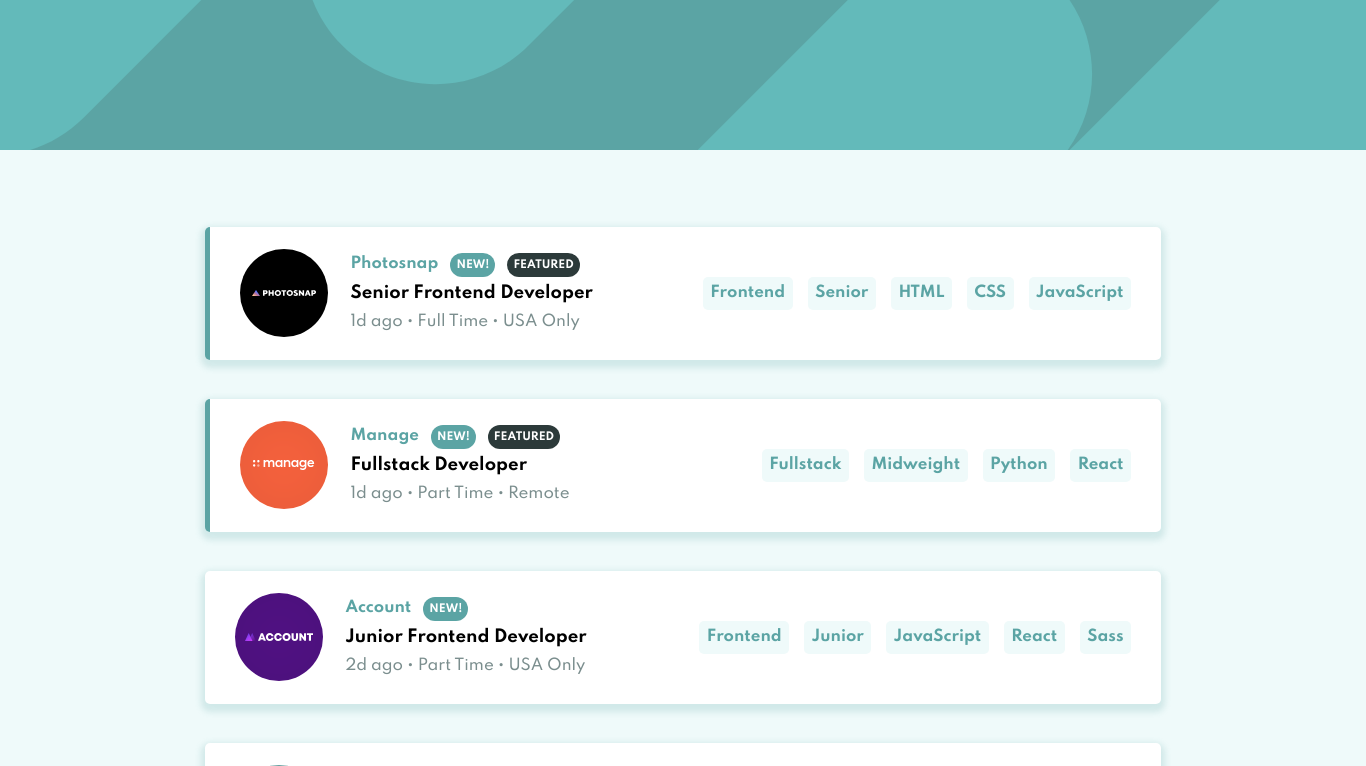
Test case: job listings › removes individual filters and restores all jobs after the last removal
Click the 2nd text "Frontend" at point(744, 637), box [699,621,789,654]
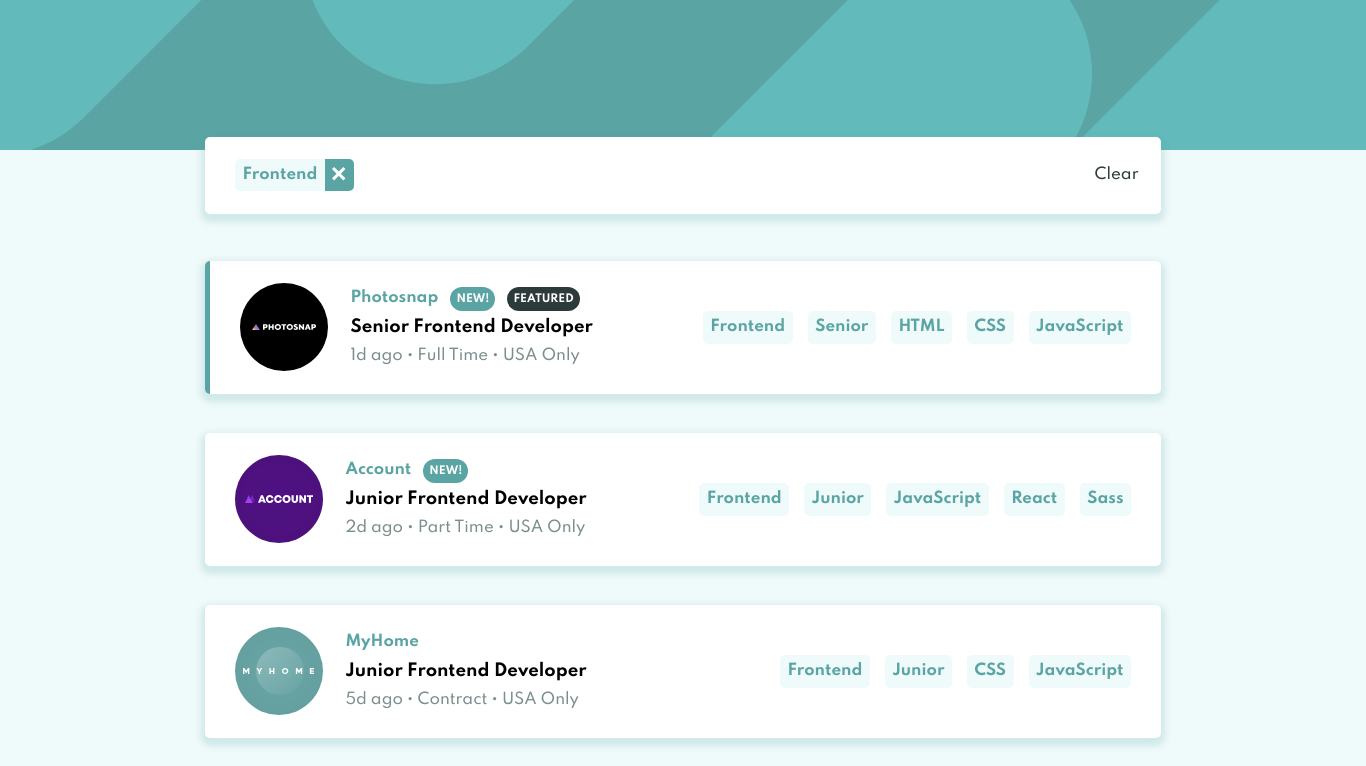
Click the 1st text "Junior" at point(838, 499), box [804,483,871,516]
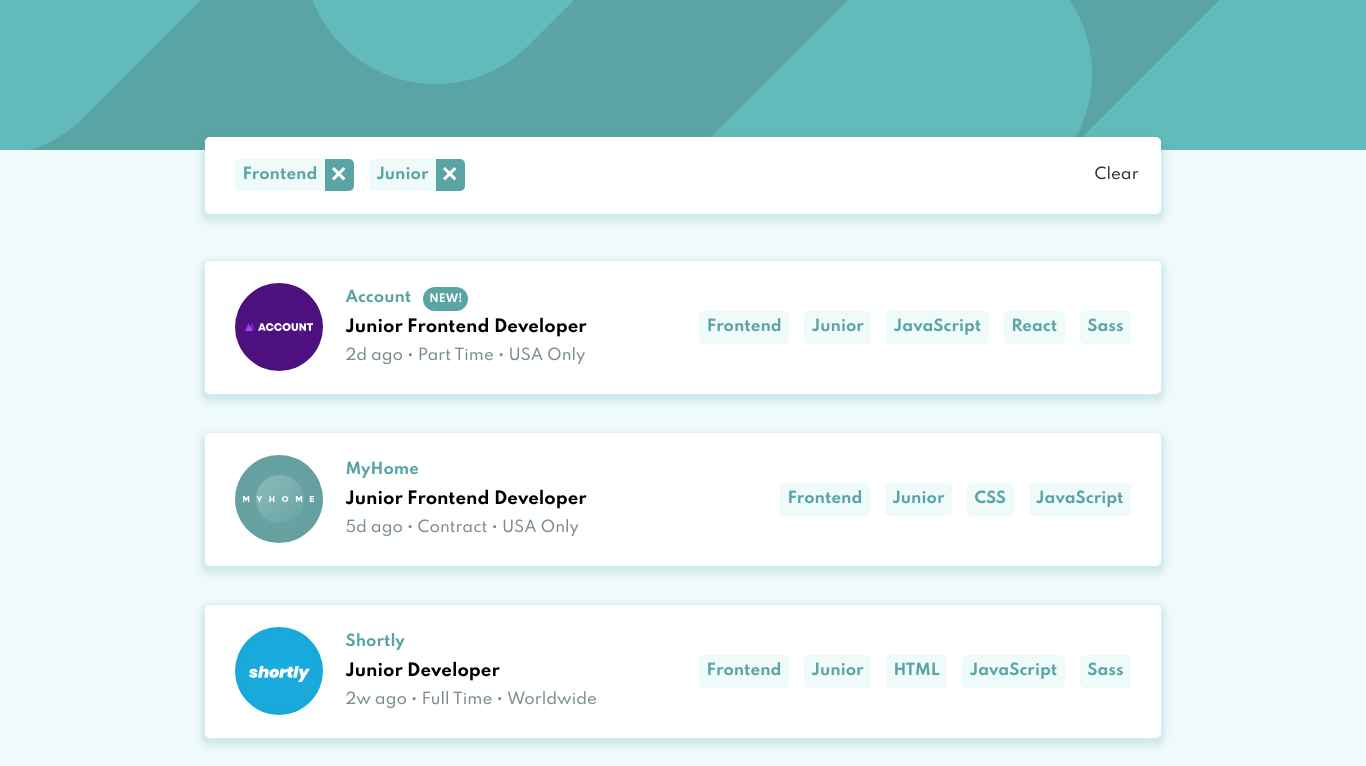
Click the 2nd button at point(450, 175), box [436,159,465,191]
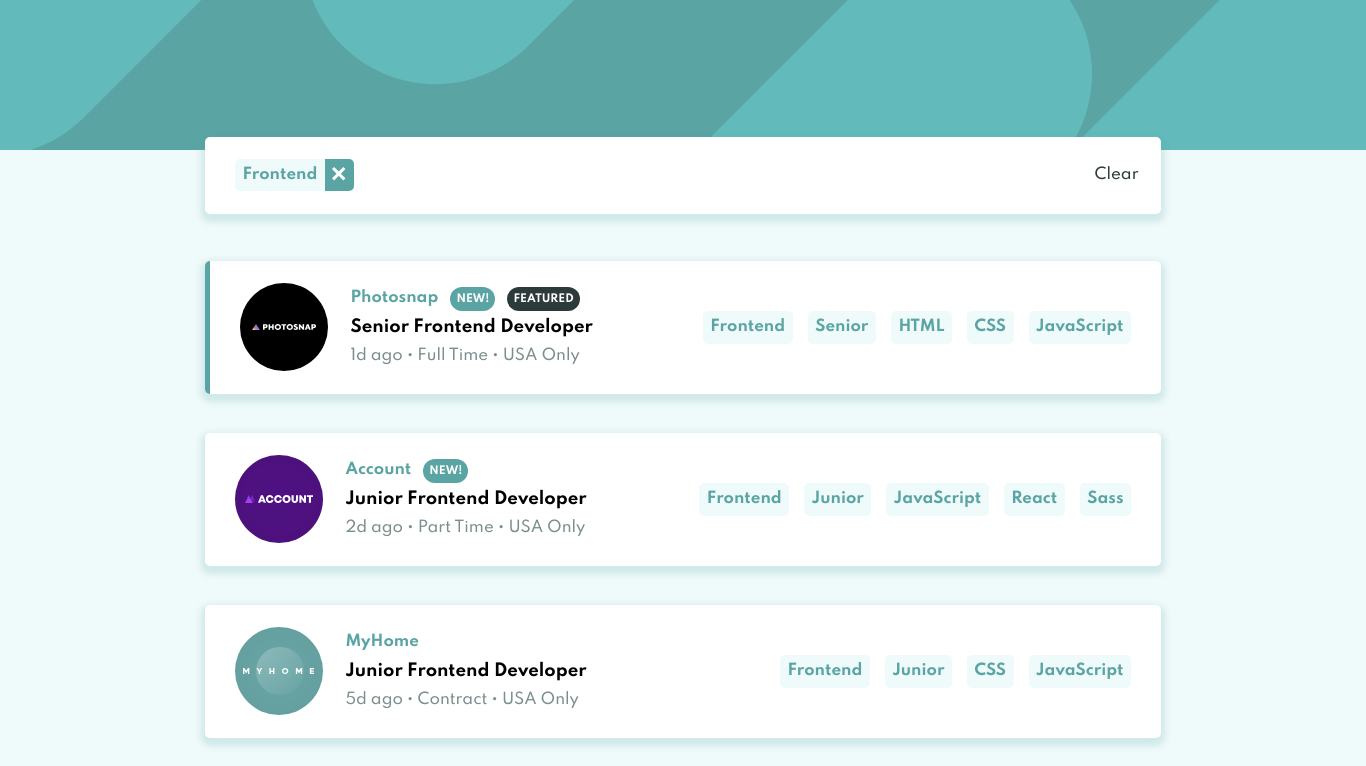
Click the button at point(339, 175), box [325,159,354,191]
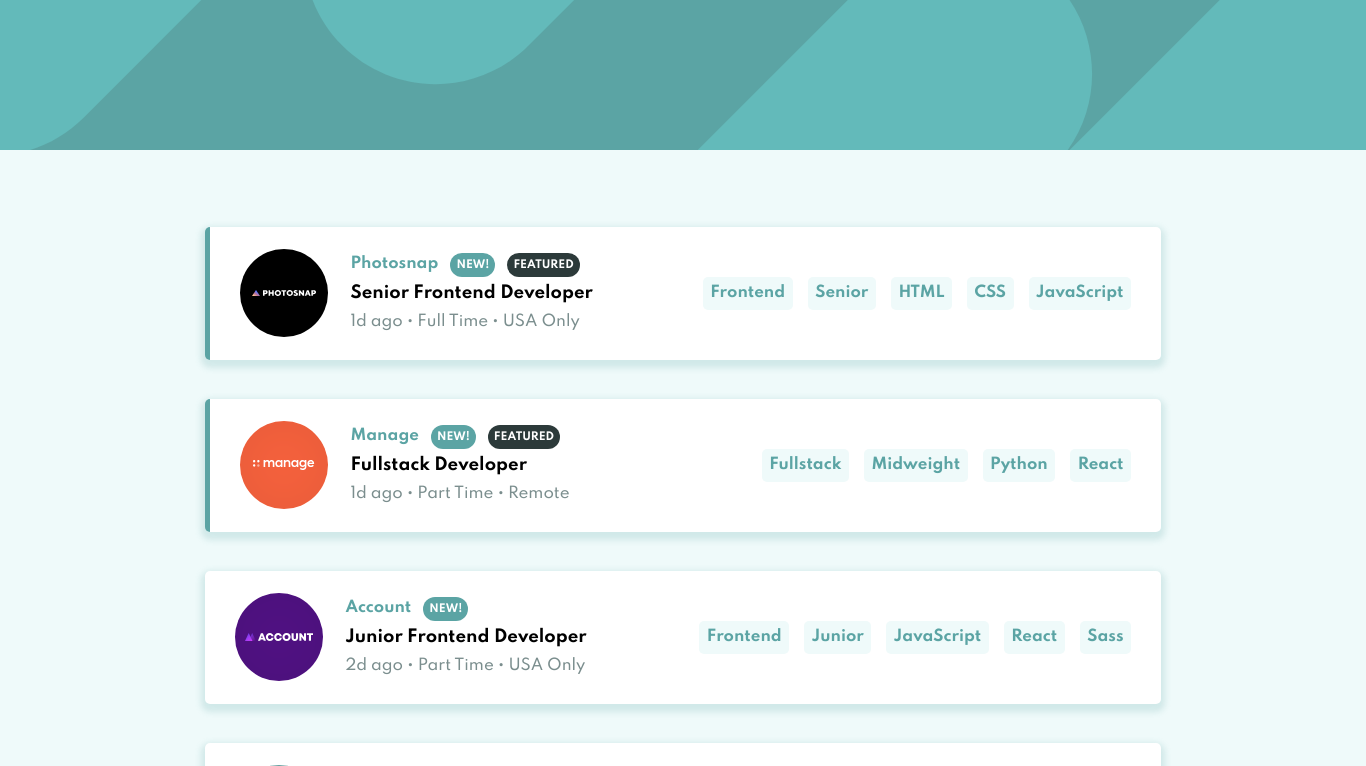
Check: the list is gone
Check: the link "Clear" is gone
